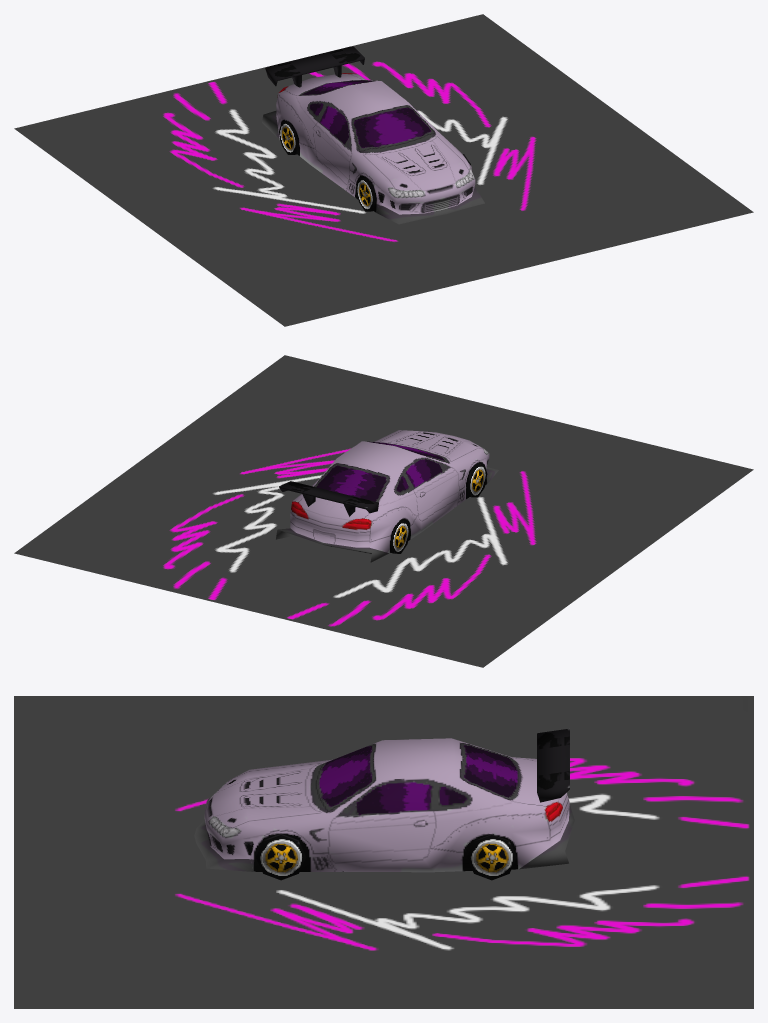
File: car.fbx
3 views of the same model, one above another, from view 1: azimuth 30°, elevation 25°; view 2: azimuth 150°, elevation 25°; view 3: azimuth 270°, elevation 25° (orthographic). The views are drawn at different scales.
Visible parts, largest first — view 1: Plane.001, Plane; view 2: Plane.001, Plane; view 3: Plane.001, Plane, Cylinder.001, Cylinder.002.
Boxes of the visible parts, x1,y1,x2,y2 form: Plane.001: (14, 14, 753, 326); Plane: (262, 46, 484, 224); Plane.001: (14, 355, 753, 667); Plane: (276, 430, 498, 562); Plane.001: (14, 696, 753, 1008); Plane: (194, 728, 574, 872); Cylinder.001: (256, 833, 305, 880); Cylinder.002: (466, 834, 516, 880).
Size of the model in its own units: 600 by 82.51 by 600.
